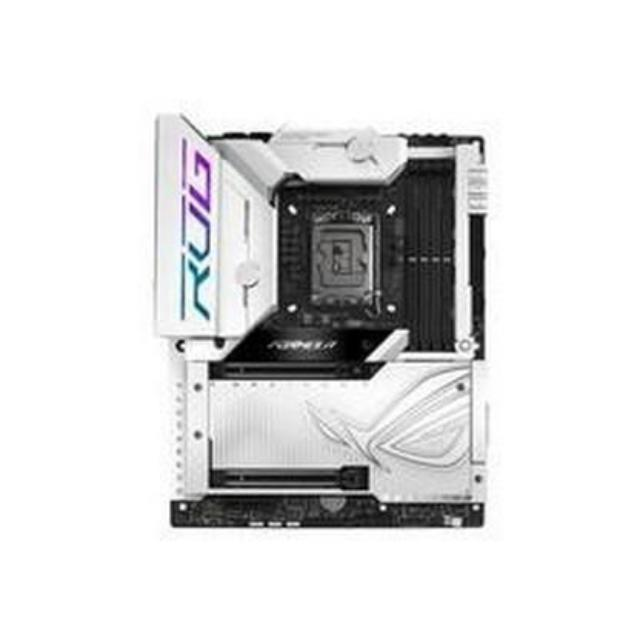Mainboard: (151, 106, 491, 536)
